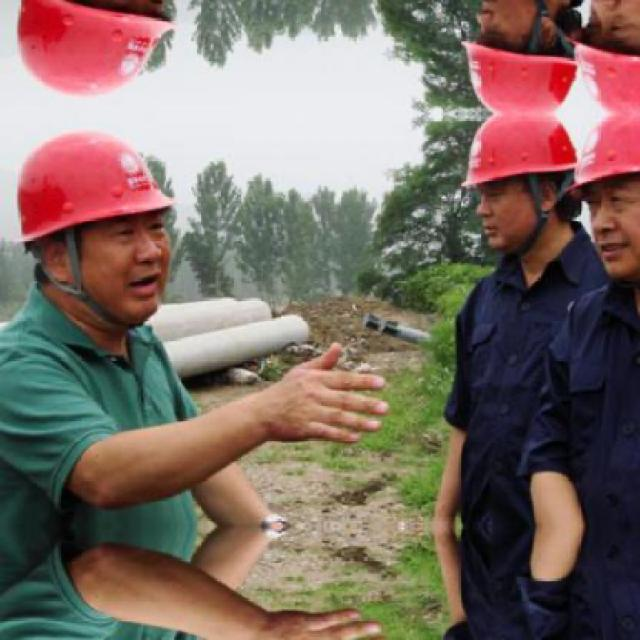helmet: (3, 118, 199, 331), (2, 0, 198, 105), (463, 110, 594, 258), (461, 0, 593, 112), (562, 111, 636, 271), (561, 0, 635, 112)
